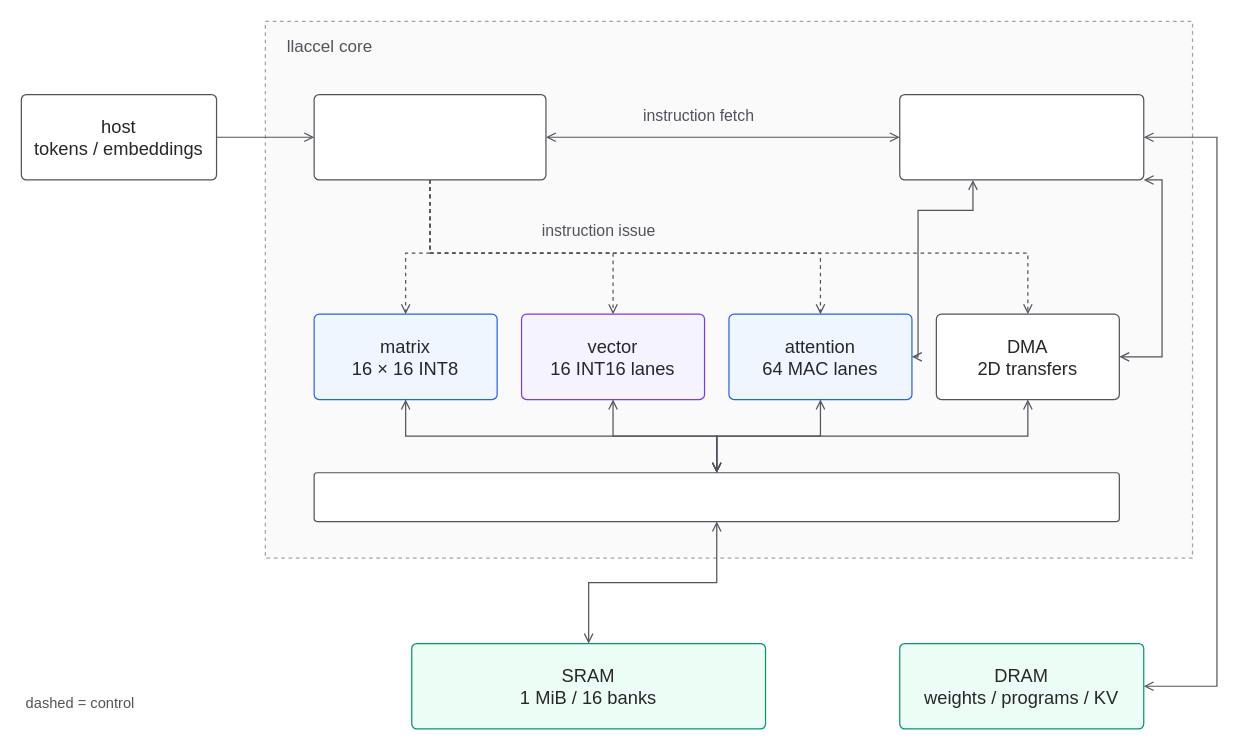
Image size: 1249x750. Some labels were removed from this diagram. The shapes that lost their labels are listed below. From the top down, each one's box as (x1, y1, x2, y2) in pixels, then its label:
(313, 93, 546, 180): command processor queues + semaphores
(899, 93, 1144, 180): DRAM arbiter 3 requesters
(313, 472, 1119, 522): SRAM crossbar
